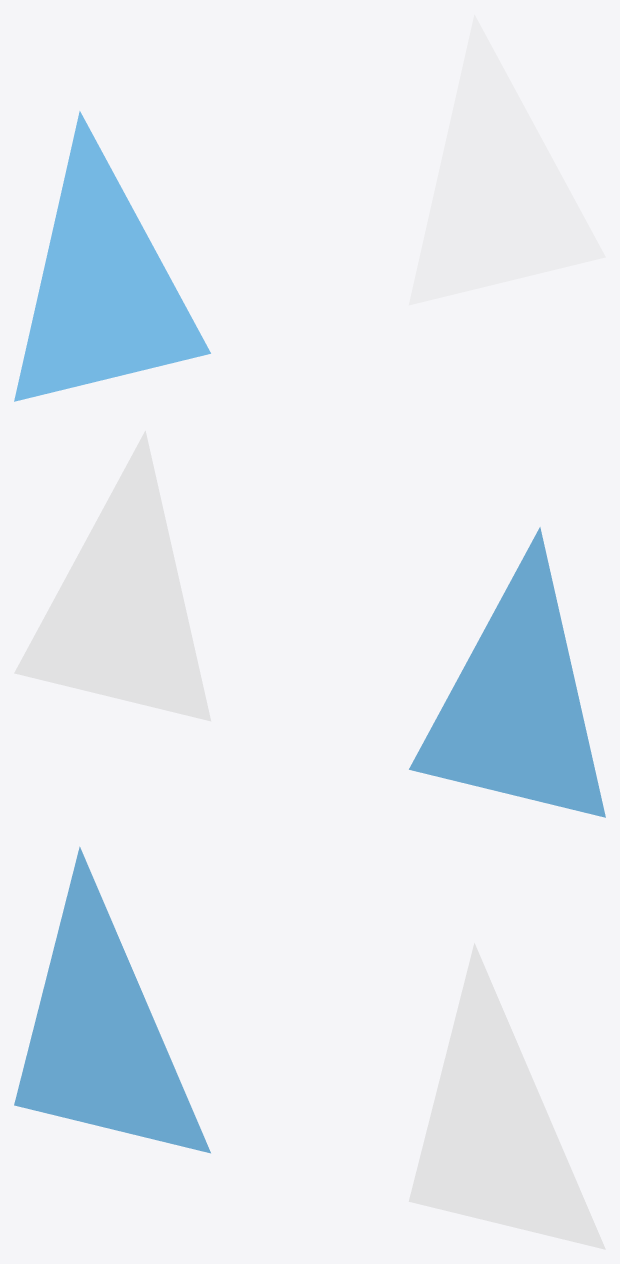
The model's file is KhrMaterialsUnlitFlatShadedPerformanceOptimizedUIElementRenderingTest.gltf.
The picture shows the model from 3 angles, top to bottom: view 1: azimuth 30°, elevation 25°; view 2: azimuth 150°, elevation 25°; view 3: azimuth 330°, elevation 25°; orthographic projection.
Parts seen in each view (by area): view 1: UnlitPanel, UnlitIcon; view 2: UnlitPanel, UnlitIcon; view 3: UnlitPanel, UnlitIcon.
Part boxes in pixels (x1,y1,x2,y2): UnlitPanel: [14, 111, 210, 401]; UnlitIcon: [409, 15, 605, 305]; UnlitPanel: [409, 527, 605, 817]; UnlitIcon: [14, 431, 210, 721]; UnlitPanel: [14, 846, 210, 1153]; UnlitIcon: [409, 943, 605, 1249].
Bounding box in the file's own units: 4.5 × 2 × 0.
